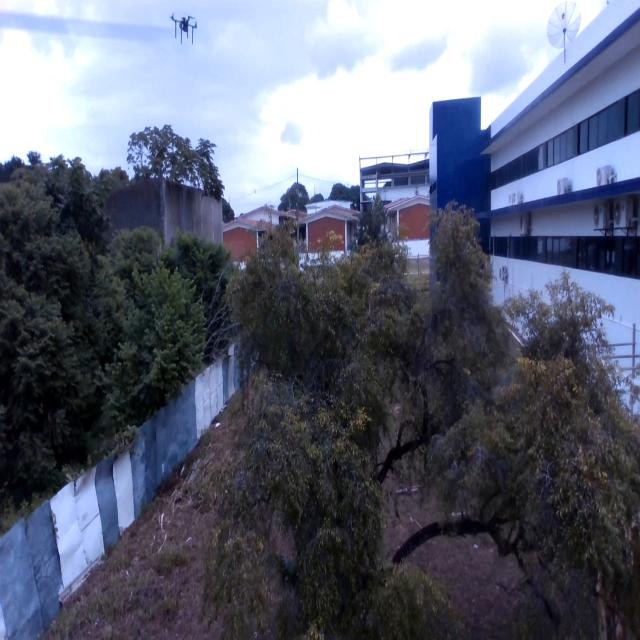-uav-: (160, 9, 202, 55)
